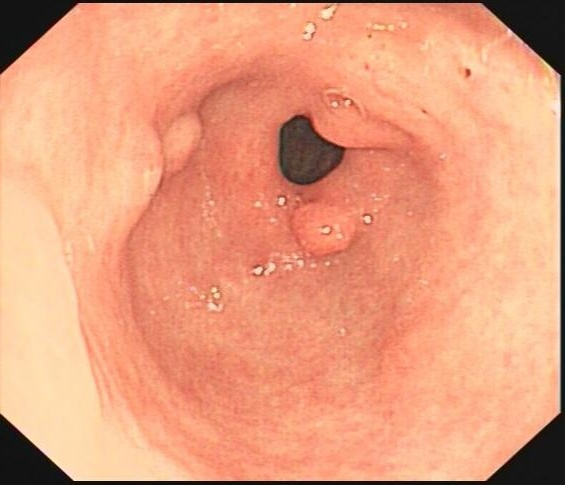Polyp: (287, 199, 355, 262)
